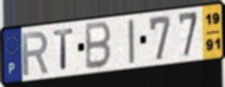7: (147, 14, 172, 61), (177, 10, 199, 59)
B: (84, 20, 113, 72)
I: (126, 17, 136, 66)
R: (20, 30, 50, 78)
T: (52, 27, 75, 72)
